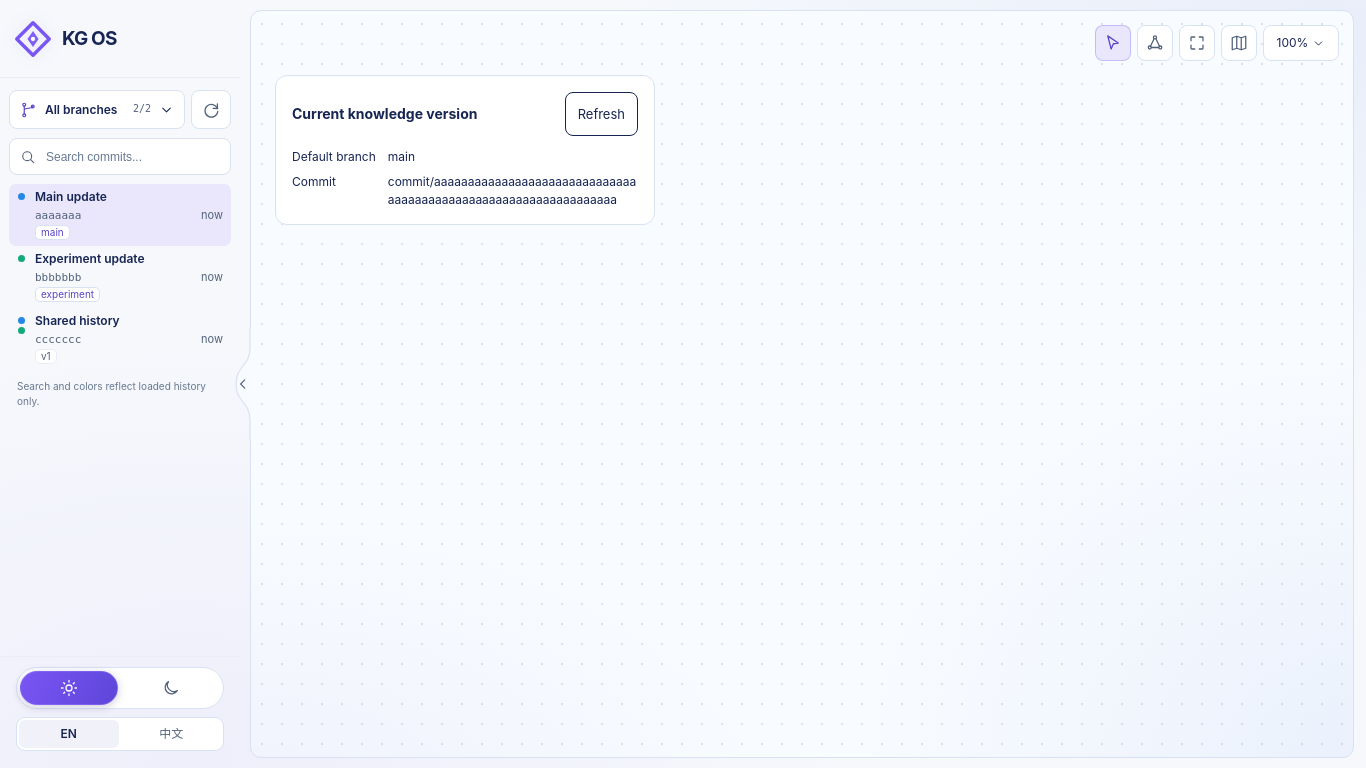
clears stale embedded versions when MCP reports authentication failure
Click the button named "Refresh versions": (211, 110) 191,90 -> 231,129
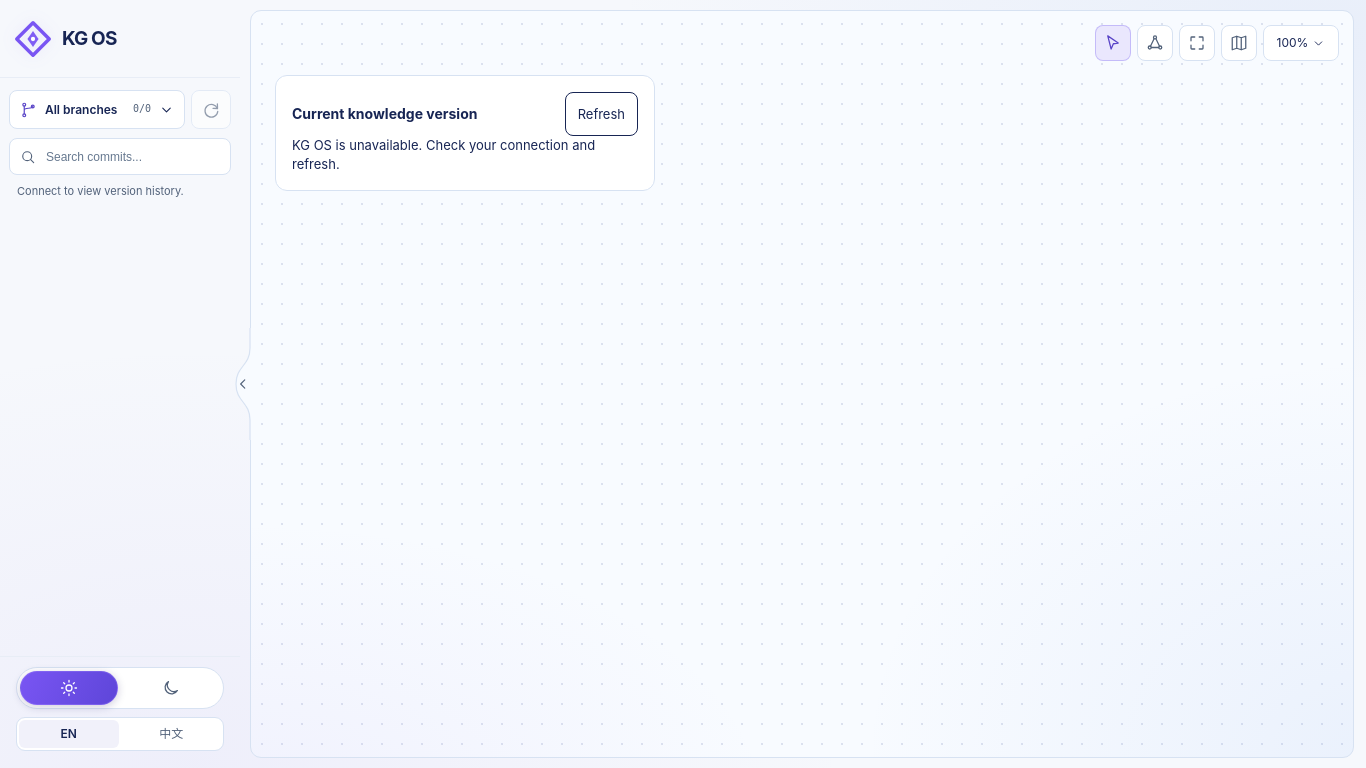
Expected: the message "KG OS is unavailable. Check your connection and refresh." is shown, 292,136 -> 638,174
Expected: no buttons with class "commit-row" are shown
